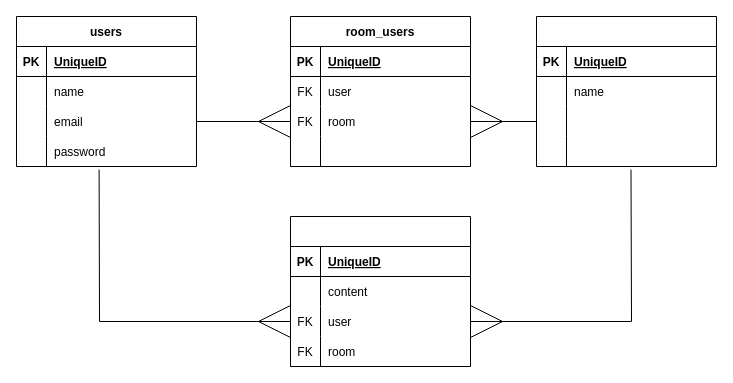
The diagram is 733 pixels wide and 383 high, and some of its shapes have lost their labels. Each missing label, with the box of its shape:
message: (290, 216, 470, 366)
rooms: (536, 16, 716, 166)
